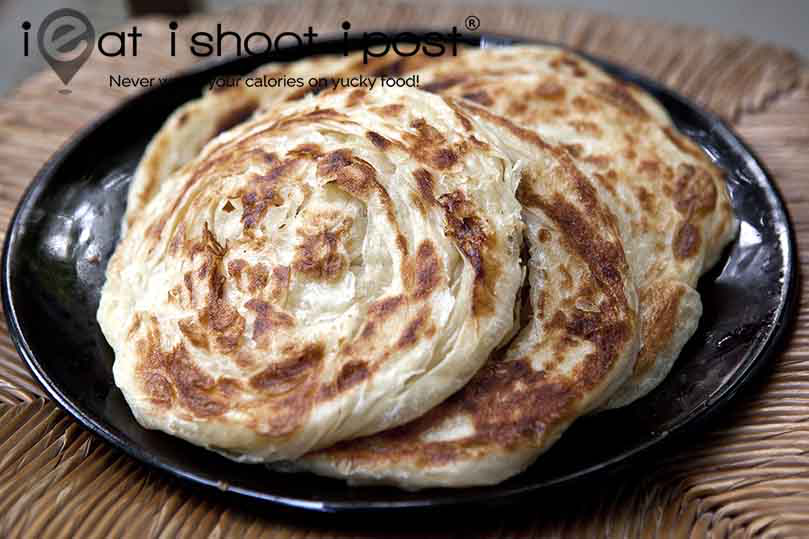Prata: (151, 61, 752, 401), (177, 99, 596, 480), (117, 92, 522, 456)
